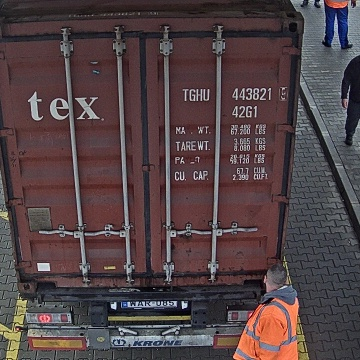serial_id: (182, 87, 286, 101)
